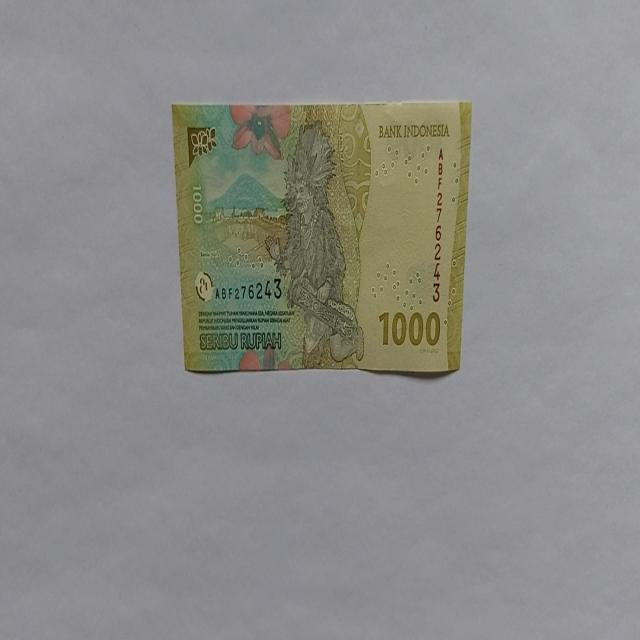seribu rupiah kertas: (170, 100, 472, 376)
